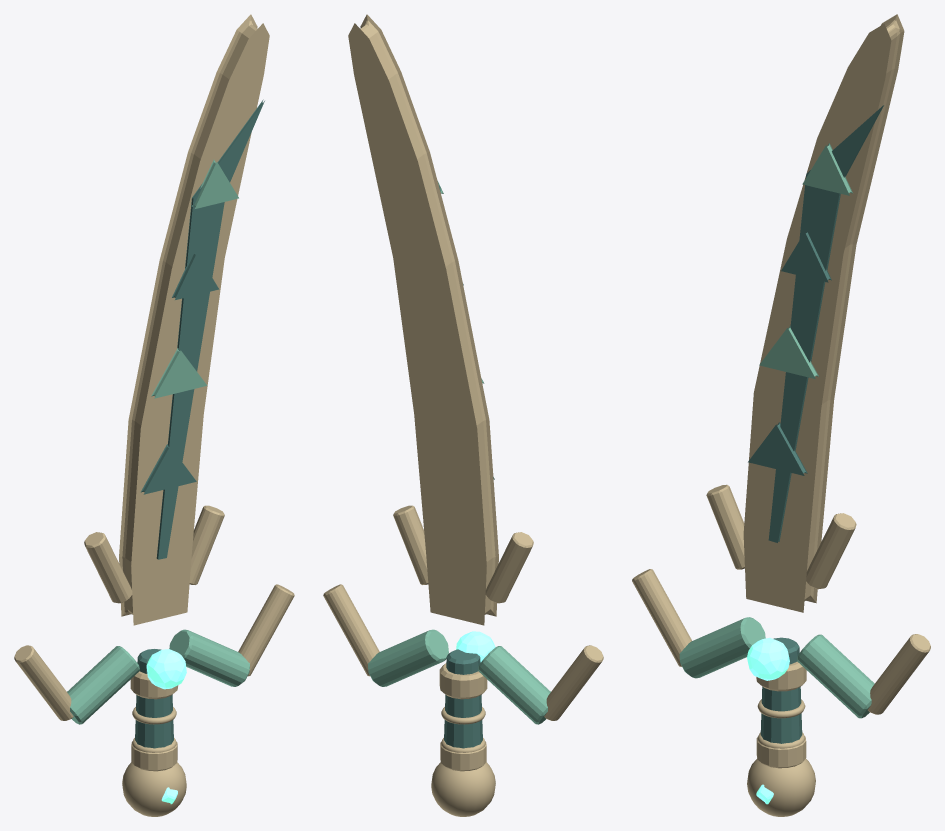
File: warrior-sword-08-serpent-guard.glb
3 views of the same model, side by side, from view 1: azimuth 30°, elevation 25°; view 2: azimuth 150°, elevation 25°; view 3: azimuth 330°, elevation 25° (orthographic). The views are drawn at different scales.
Visible parts, largest first — view 1: warrior-sword-08-serpent-guard_ForgedBlade, warrior-sword-08-serpent-guard_ColoredFuller, warrior-sword-08-serpent-guard_Guard_Left, warrior-sword-08-serpent-guard_Guard_Right, warrior-sword-08-serpent-guard_Pommel, warrior-sword-08-serpent-guard_Guard_RightTip, warrior-sword-08-serpent-guard_LeatherGrip, warrior-sword-08-serpent-guard_Guard_LeftTip, warrior-sword-08-serpent-guard_FangGuard_-1, warrior-sword-08-serpent-guard_FangGuard_1, warrior-sword-08-serpent-guard_DragonScale_1, warrior-sword-08-serpent-guard_DragonScale_2 (+5 smaller); view 2: warrior-sword-08-serpent-guard_ForgedBlade, warrior-sword-08-serpent-guard_Guard_Left, warrior-sword-08-serpent-guard_Guard_Right, warrior-sword-08-serpent-guard_Pommel, warrior-sword-08-serpent-guard_LeatherGrip, warrior-sword-08-serpent-guard_Guard_RightTip, warrior-sword-08-serpent-guard_Guard_LeftTip, warrior-sword-08-serpent-guard_FangGuard_-1, warrior-sword-08-serpent-guard_FangGuard_1, warrior-sword-08-serpent-guard_UpperFerrule, warrior-sword-08-serpent-guard_LowerFerrule, warrior-sword-08-serpent-guard_GuardGem; view 3: warrior-sword-08-serpent-guard_ForgedBlade, warrior-sword-08-serpent-guard_ColoredFuller, warrior-sword-08-serpent-guard_Guard_Right, warrior-sword-08-serpent-guard_Guard_Left, warrior-sword-08-serpent-guard_Pommel, warrior-sword-08-serpent-guard_Guard_LeftTip, warrior-sword-08-serpent-guard_LeatherGrip, warrior-sword-08-serpent-guard_Guard_RightTip, warrior-sword-08-serpent-guard_FangGuard_1, warrior-sword-08-serpent-guard_FangGuard_-1, warrior-sword-08-serpent-guard_DragonScale_1, warrior-sword-08-serpent-guard_DragonScale_2 (+5 smaller).
Boxes of the visible parts, x1,y1,x2,y2 form: warrior-sword-08-serpent-guard_ForgedBlade: (119, 14, 269, 625); warrior-sword-08-serpent-guard_ColoredFuller: (156, 99, 264, 559); warrior-sword-08-serpent-guard_Guard_Left: (67, 646, 139, 724); warrior-sword-08-serpent-guard_Guard_Right: (169, 629, 249, 686); warrior-sword-08-serpent-guard_Pommel: (122, 762, 186, 816); warrior-sword-08-serpent-guard_Guard_RightTip: (238, 584, 294, 676); warrior-sword-08-serpent-guard_LeatherGrip: (135, 649, 173, 748); warrior-sword-08-serpent-guard_Guard_LeftTip: (14, 645, 73, 720); warrior-sword-08-serpent-guard_FangGuard_-1: (84, 532, 132, 603); warrior-sword-08-serpent-guard_FangGuard_1: (189, 505, 224, 584); warrior-sword-08-serpent-guard_DragonScale_1: (140, 444, 196, 494); warrior-sword-08-serpent-guard_DragonScale_2: (151, 348, 207, 398); warrior-sword-08-serpent-guard_ForgedBlade: (348, 14, 498, 625); warrior-sword-08-serpent-guard_Guard_Left: (478, 646, 550, 724); warrior-sword-08-serpent-guard_Guard_Right: (368, 629, 448, 686); warrior-sword-08-serpent-guard_Pommel: (431, 762, 495, 816); warrior-sword-08-serpent-guard_LeatherGrip: (444, 649, 482, 748); warrior-sword-08-serpent-guard_Guard_RightTip: (323, 584, 379, 676); warrior-sword-08-serpent-guard_Guard_LeftTip: (544, 645, 603, 720); warrior-sword-08-serpent-guard_FangGuard_-1: (485, 532, 533, 603); warrior-sword-08-serpent-guard_FangGuard_1: (393, 505, 428, 584); warrior-sword-08-serpent-guard_UpperFerrule: (439, 663, 487, 699); warrior-sword-08-serpent-guard_LowerFerrule: (440, 741, 486, 771); warrior-sword-08-serpent-guard_GuardGem: (456, 631, 495, 662); warrior-sword-08-serpent-guard_ForgedBlade: (743, 14, 904, 612); warrior-sword-08-serpent-guard_ColoredFuller: (768, 105, 883, 542); warrior-sword-08-serpent-guard_Guard_Right: (797, 634, 874, 718); warrior-sword-08-serpent-guard_Guard_Left: (679, 617, 765, 678); warrior-sword-08-serpent-guard_Pommel: (747, 758, 815, 816); warrior-sword-08-serpent-guard_Guard_LeftTip: (632, 569, 691, 666); warrior-sword-08-serpent-guard_LeatherGrip: (760, 637, 802, 743); warrior-sword-08-serpent-guard_Guard_RightTip: (867, 634, 930, 714); warrior-sword-08-serpent-guard_FangGuard_1: (806, 513, 856, 589); warrior-sword-08-serpent-guard_FangGuard_-1: (706, 484, 744, 569); warrior-sword-08-serpent-guard_DragonScale_1: (748, 422, 807, 475); warrior-sword-08-serpent-guard_DragonScale_2: (759, 325, 818, 378).
Bounding box in the file's own units: 0.6287 × 1.67 × 0.15.
